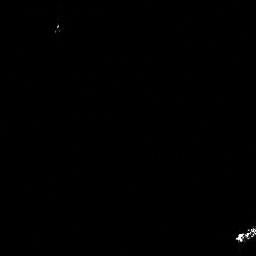ship: (232, 223, 256, 245)
